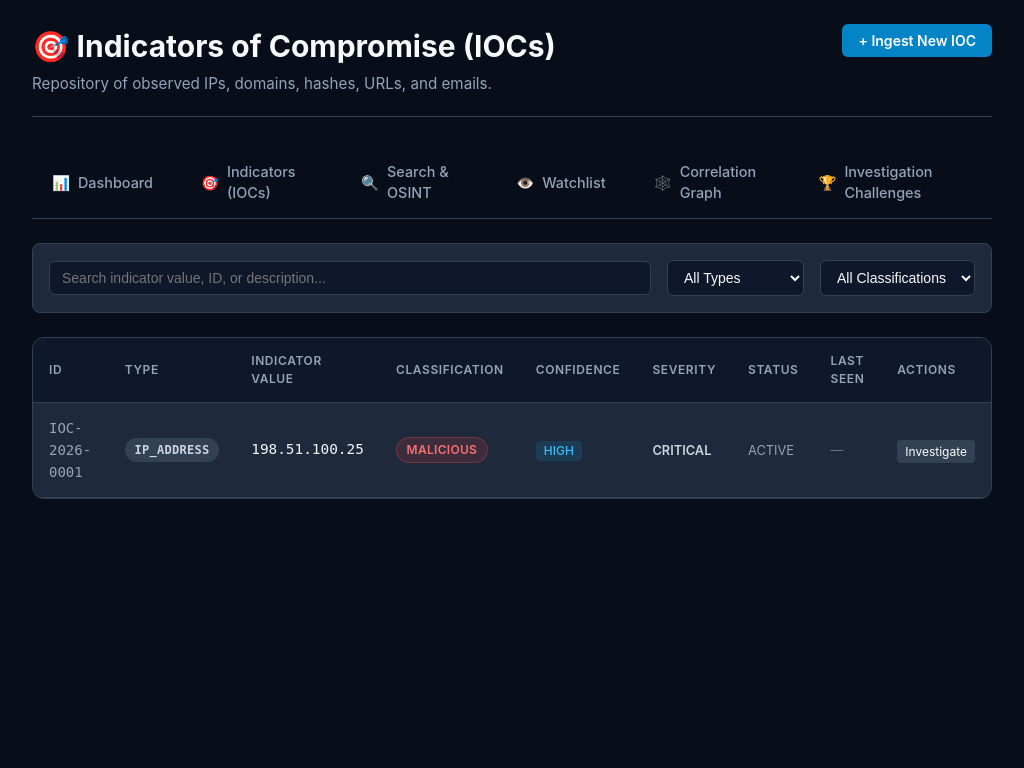
Test: Step 13: Threat Intelligence & IOC Investigation UI Tests › renders Indicator Repository and opens Ingest IOC modal
The image size is (1024, 768).
Check: the heading "🎯 Indicators of Compromise (IOCs)" is shown, box 32,24 -> 556,69
Check: the text "198.51.100.25" is shown, box 251,439 -> 364,461
// Click Ingest New IOC button
What coordinates should you click on to do the following:
click the button "+ Ingest New IOC"
I would click on:
 (917, 40)
Its box is 842,24 -> 992,57.
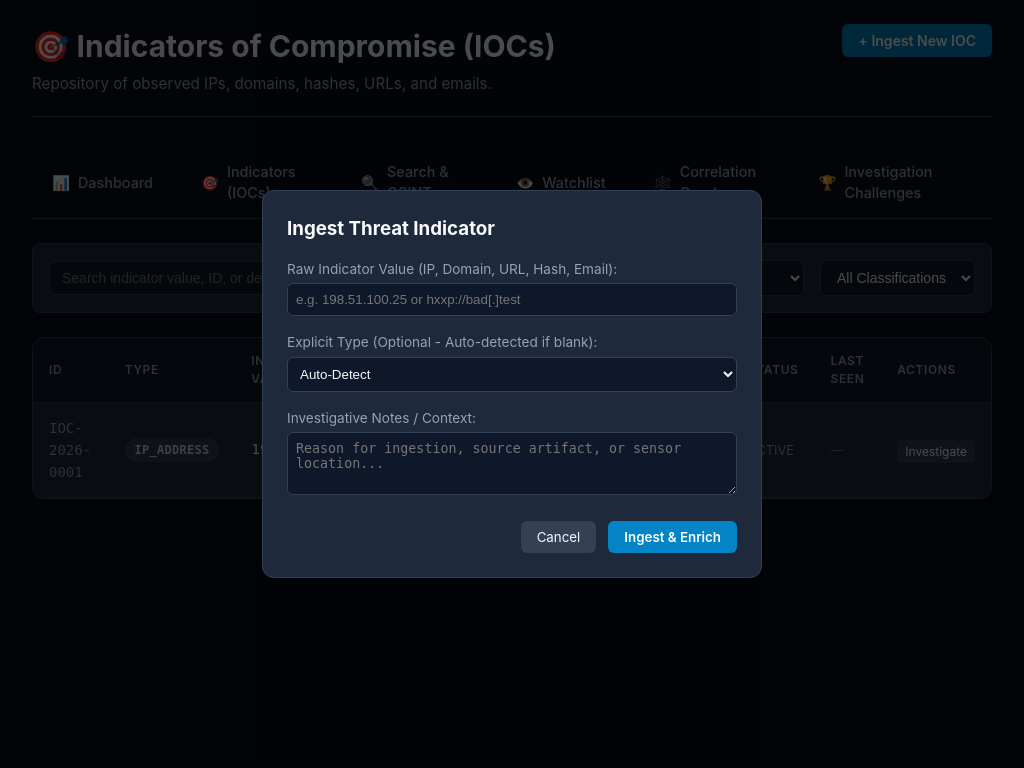
Check: the heading "Ingest Threat Indicator" is shown, box 287,217 -> 495,240
